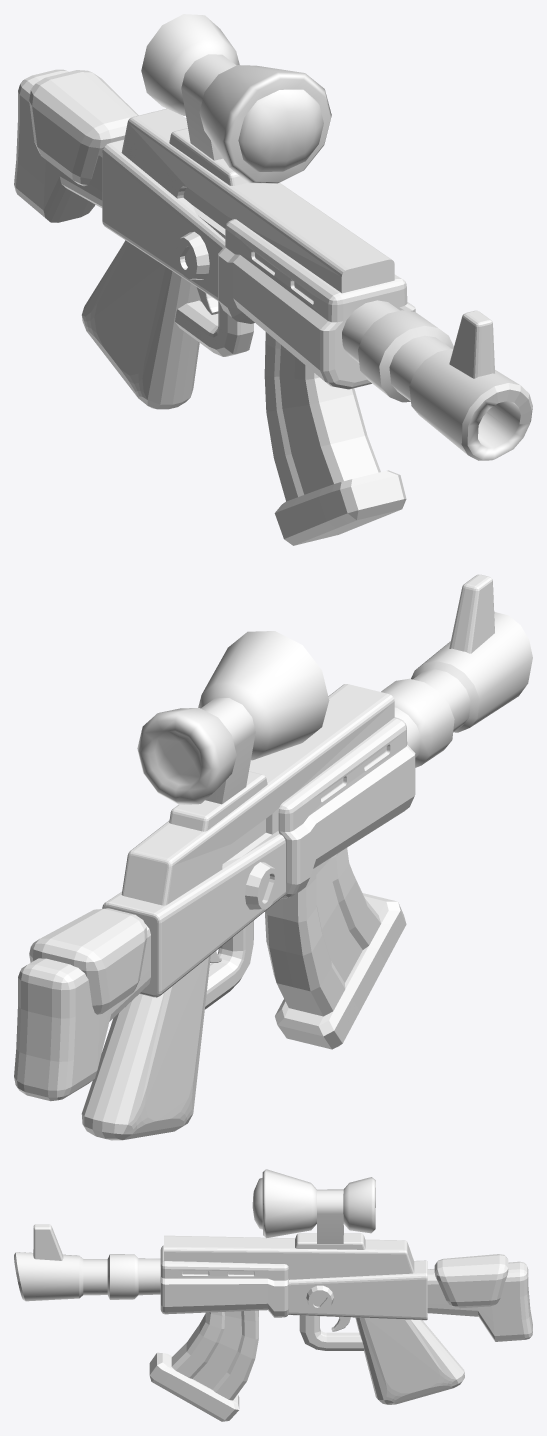
3 views of the same model, one above another, from view 1: azimuth 30°, elevation 25°; view 2: azimuth 150°, elevation 25°; view 3: azimuth 270°, elevation 25° (orthographic). The views are drawn at different scales.
Parts seen in each view (by area): view 1: Weap_group1Weap9; view 2: Weap_group1Weap9; view 3: Weap_group1Weap9.
Boxes of the visible parts, x1,y1,x2,y2 form: Weap_group1Weap9: (14,14,532,545); Weap_group1Weap9: (14,574,532,1140); Weap_group1Weap9: (14,1169,532,1421).
Bounding box in the file's own units: 2.18 × 8.39 × 16.21.
